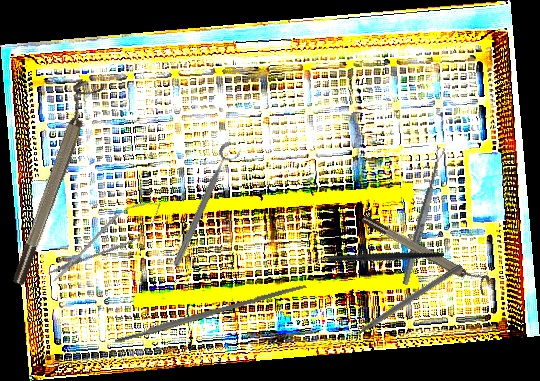Chopper: (304, 212, 445, 308)
Fixation Ring: (0, 77, 104, 287), (359, 207, 494, 296), (169, 139, 244, 272)
Hook Surgical: (342, 262, 464, 344)
Micro Scissor: (40, 189, 171, 293)
Scalpel Handle: (113, 281, 308, 345)
Surgical Spoon: (400, 146, 447, 286)
